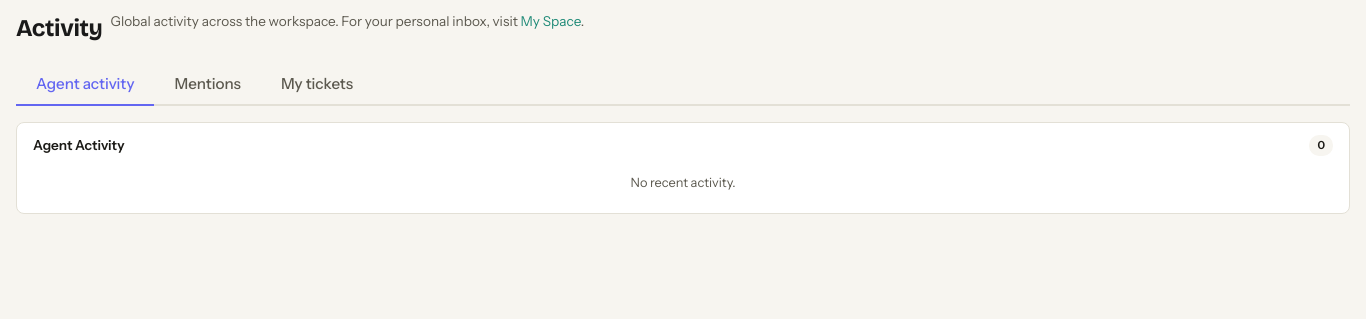
Test case: ActivityPage › clicking Mentions tab updates active tab and shows mentions stub
The image size is (1366, 319).
Click the tab "Mentions" at (208, 85), box [154, 64, 261, 106]
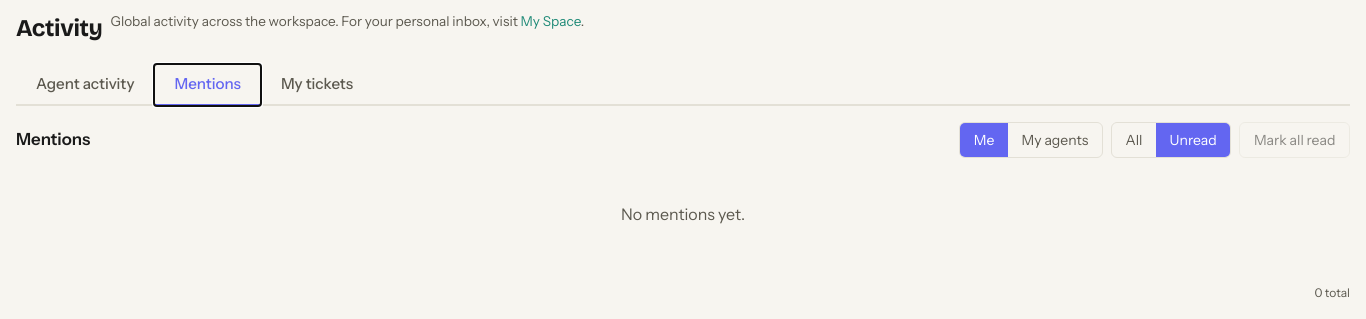
Result: the element with test id "mentions-tab" is shown at [16, 122, 1350, 302]
Result: the element with test id "panel-agent" is gone
